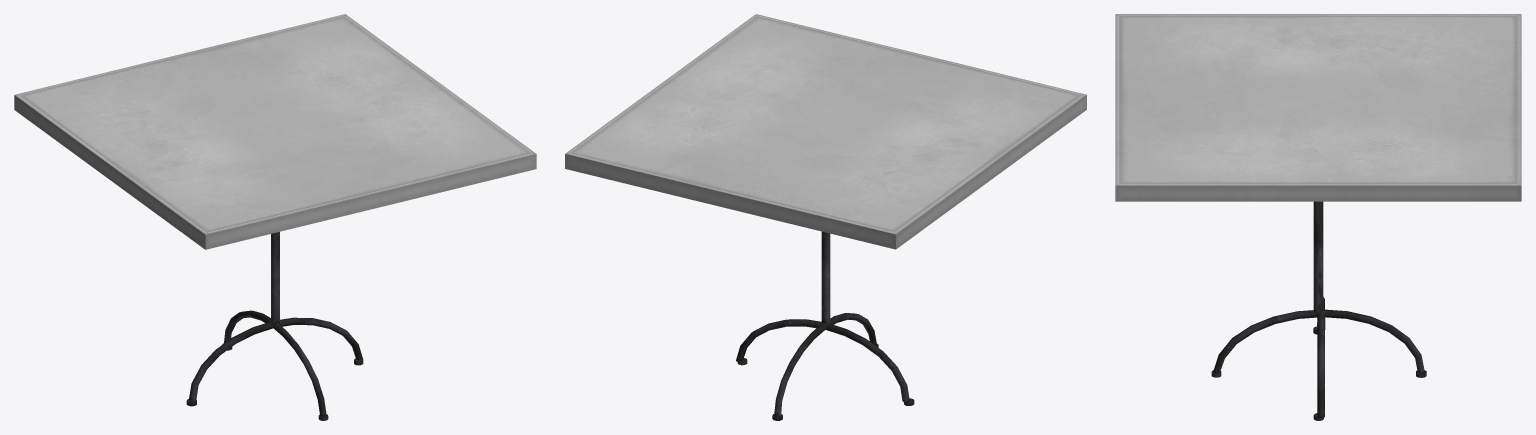
Rendered from MB_Cafe_Table_03.fbx.
3 views of the same model, side by side, from view 1: azimuth 30°, elevation 25°; view 2: azimuth 150°, elevation 25°; view 3: azimuth 270°, elevation 25° (orthographic). The views are drawn at different scales.
Visible parts, largest first — view 1: MB_Cafe_Table_03_LOD0.001; view 2: MB_Cafe_Table_03_LOD0.001; view 3: MB_Cafe_Table_03_LOD0.001.
Part boxes in pixels (x1,y1,x2,y2): MB_Cafe_Table_03_LOD0.001: [14, 14, 536, 420]; MB_Cafe_Table_03_LOD0.001: [565, 14, 1086, 420]; MB_Cafe_Table_03_LOD0.001: [1115, 14, 1521, 420].
Size of what is drawn, in the model's own units: 104 by 78.15 by 104.
